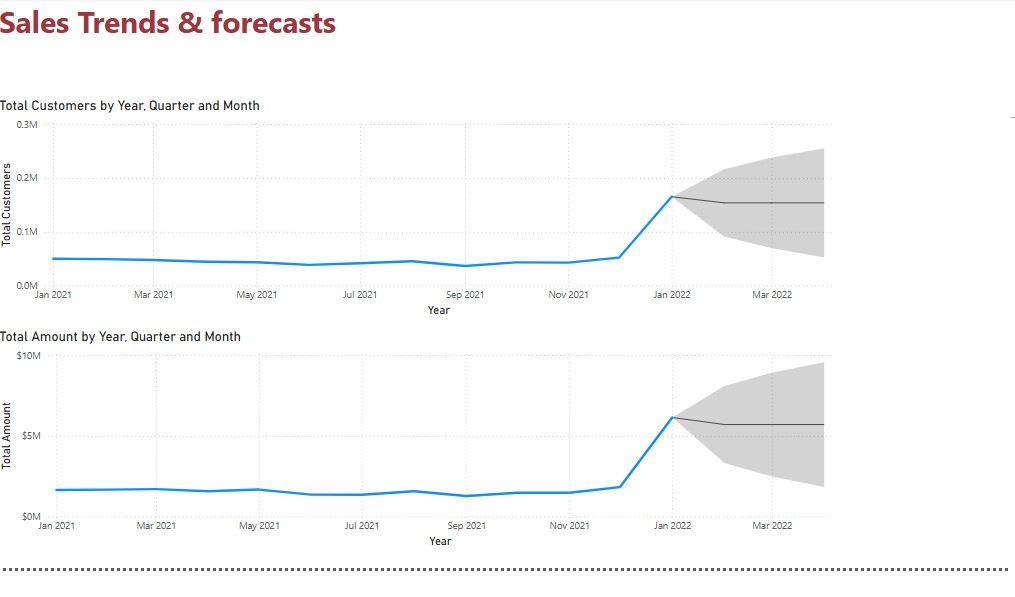

This screenshot's page, from the dashboard's own definition file:
{"tool":"powerbi","page":{"name":"Sales trends & forecasts","canvas":[1280,720],"ordinal":2},"visuals":[{"type":"lineChart","fields":{"Category":["sales.Date.Variation.Date Hierarchy.Year","sales.Date.Variation.Date Hierarchy.Quarter","sales.Date.Variation.Date Hierarchy.Month","sales.Date.Variation.Date Hierarchy.Day"],"Y":["sales.Total Customers"]},"box":[0,126.6,1075.3,279.7],"z":0},{"type":"lineChart","fields":{"Category":["sales.Date.Variation.Date Hierarchy.Year","sales.Date.Variation.Date Hierarchy.Quarter","sales.Date.Variation.Date Hierarchy.Month","sales.Date.Variation.Date Hierarchy.Day"],"Y":["sales.Total Amount"]},"box":[0,417.6,1075.3,279.7],"z":1},{"type":"textbox","box":[0,0,750.2,96.4],"z":2}]}

Visuals, with their boxes on the page's 1280x720 design canvas (x1, y1, x2, y2). These are canvas units, not pixel positions in the 1015x597 screenshot, which may show the page scaled, cropped or inside an application window:
lineChart - sales.Date.Variation.Date Hierarchy.Year x sales.Date.Variation.Date Hierarchy.Quarter: 0:127:1075:406
lineChart - sales.Date.Variation.Date Hierarchy.Year x sales.Date.Variation.Date Hierarchy.Quarter: 0:418:1075:697
textbox: 0:0:750:96
